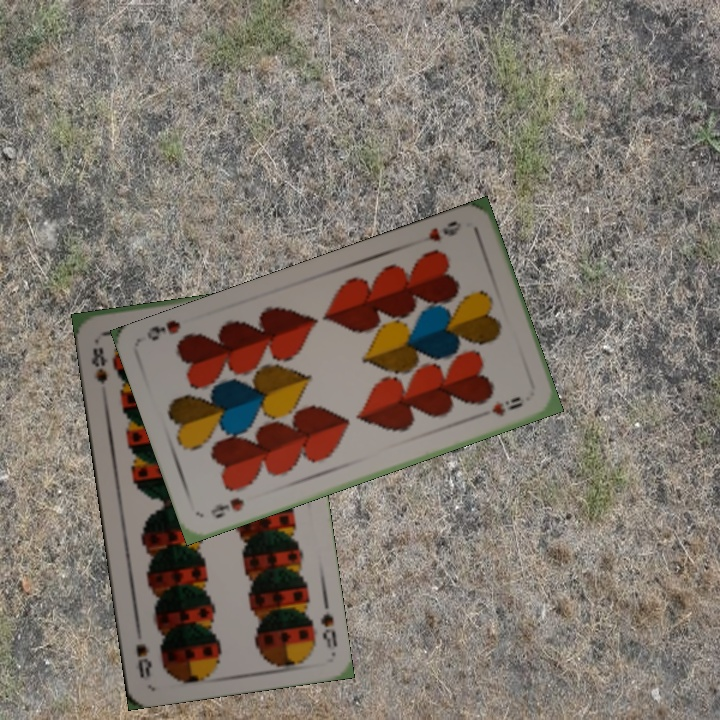H9: (206, 493, 247, 521), (424, 216, 464, 244)
S8: (316, 609, 340, 651), (87, 343, 110, 386)
